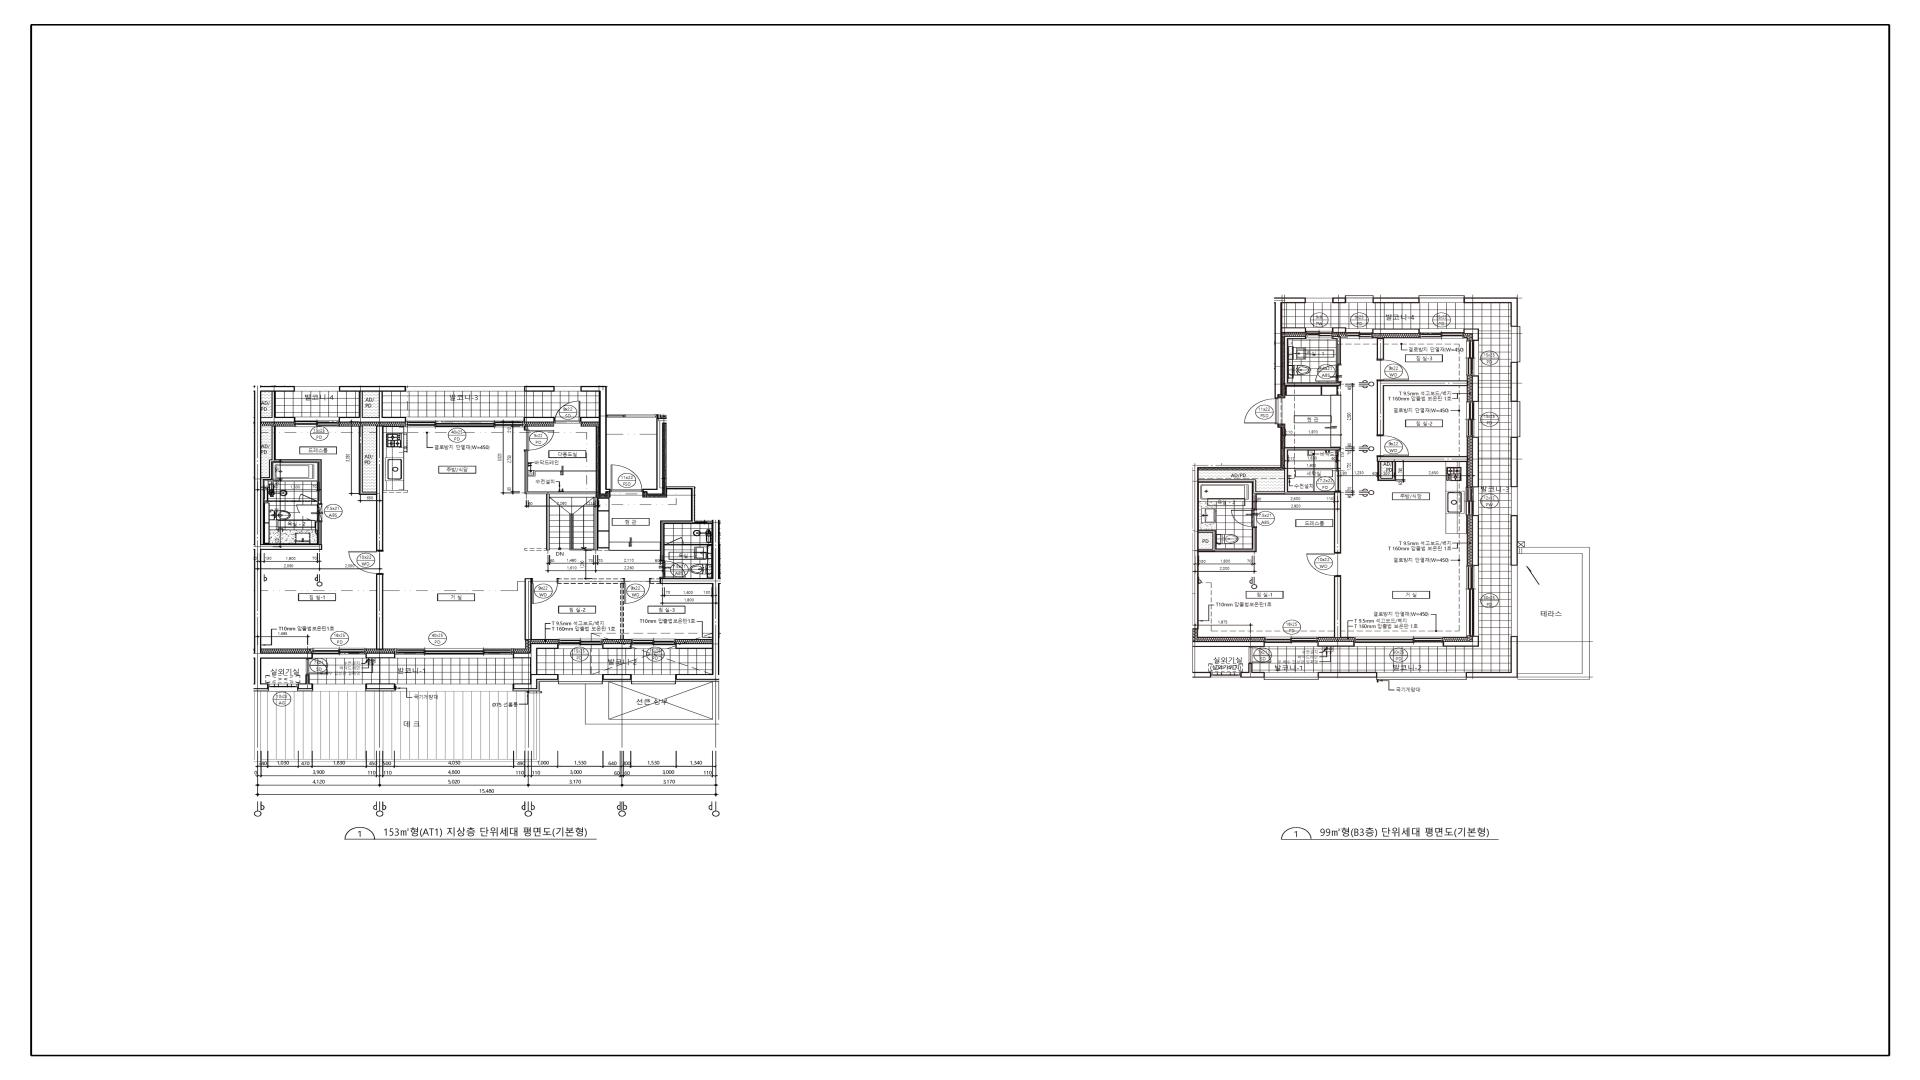door: (1244, 398, 1282, 425), (611, 464, 642, 492), (1307, 553, 1341, 576), (348, 551, 384, 574), (1377, 434, 1408, 456), (1377, 359, 1408, 381), (531, 579, 558, 604), (624, 579, 650, 604), (525, 430, 555, 451), (554, 401, 580, 423), (1315, 364, 1341, 382), (1230, 509, 1257, 527), (661, 560, 686, 579), (297, 504, 322, 522), (306, 658, 328, 675), (1249, 647, 1271, 663), (665, 537, 683, 546), (299, 493, 318, 502)
wall: (642, 414, 720, 680), (255, 386, 322, 690), (1199, 447, 1341, 553), (1192, 465, 1280, 629), (261, 426, 322, 545), (525, 451, 596, 550), (1377, 380, 1469, 434), (558, 579, 624, 640), (580, 386, 611, 495), (359, 426, 384, 551), (1275, 298, 1305, 398), (1284, 336, 1341, 386), (1377, 456, 1468, 481), (1466, 636, 1518, 678), (339, 392, 406, 422), (1465, 298, 1518, 326), (1199, 527, 1257, 553), (513, 644, 558, 674), (661, 521, 692, 560), (261, 392, 295, 422), (593, 497, 609, 550), (513, 674, 559, 690), (376, 574, 384, 650), (513, 680, 559, 691), (1192, 641, 1265, 647), (1335, 576, 1341, 638), (525, 579, 531, 641), (1472, 516, 1480, 566), (1443, 637, 1480, 647), (1472, 438, 1480, 487), (339, 386, 406, 392), (1241, 663, 1265, 678), (1511, 516, 1518, 566), (1511, 438, 1518, 487), (1319, 673, 1377, 678), (1511, 363, 1518, 401), (1317, 641, 1354, 647), (1373, 328, 1419, 334), (1374, 298, 1419, 303), (1333, 336, 1341, 364), (298, 675, 313, 690), (1472, 376, 1480, 402), (1381, 462, 1393, 479), (365, 683, 396, 690), (607, 414, 657, 418), (675, 644, 712, 649), (603, 674, 632, 680), (1464, 328, 1480, 340), (1377, 338, 1385, 359), (525, 386, 555, 392), (524, 417, 554, 422), (603, 644, 632, 649), (367, 653, 396, 658), (1282, 327, 1305, 332), (1192, 673, 1211, 678), (580, 417, 599, 422), (318, 522, 322, 545), (1332, 327, 1346, 332), (1332, 298, 1345, 303), (675, 680, 720, 682), (650, 579, 659, 584), (365, 690, 396, 691), (603, 680, 632, 682), (683, 545, 712, 546), (298, 690, 313, 691), (255, 690, 269, 691), (524, 426, 527, 430)
window: (406, 417, 524, 427), (396, 649, 513, 658), (1466, 566, 1480, 637), (1354, 637, 1443, 647), (396, 683, 513, 691), (1377, 673, 1466, 680), (406, 386, 525, 392), (1265, 637, 1317, 647), (313, 649, 367, 658), (1419, 328, 1464, 339), (558, 638, 603, 649), (1466, 402, 1480, 438), (1466, 340, 1480, 376), (1511, 566, 1518, 636), (632, 674, 675, 684), (559, 674, 603, 684), (295, 417, 339, 427), (1265, 673, 1319, 680), (313, 683, 365, 691), (632, 640, 675, 649), (1466, 487, 1480, 516), (1419, 295, 1465, 303), (1511, 326, 1520, 363), (1511, 401, 1520, 438), (1305, 327, 1333, 339), (1346, 328, 1373, 339), (1335, 451, 1341, 492), (294, 386, 339, 392), (1345, 295, 1374, 303), (269, 683, 298, 691), (1511, 487, 1518, 516), (1211, 673, 1241, 678), (1305, 298, 1332, 303), (555, 386, 580, 392)
